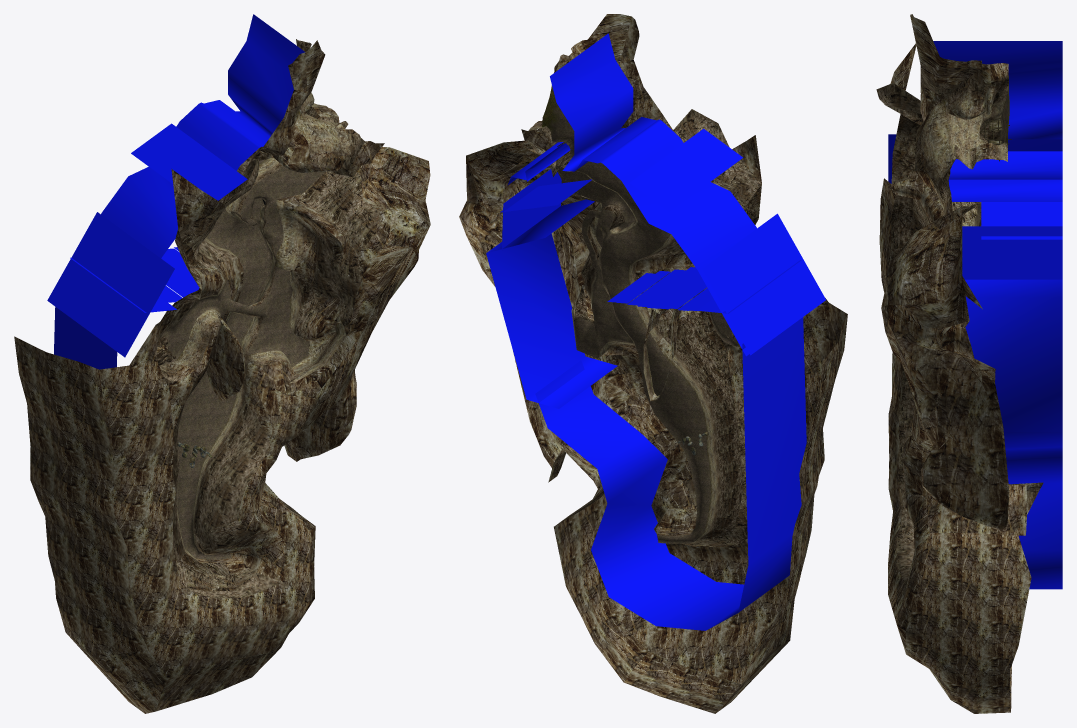
The picture shows the model from 3 angles, left to right: view 1: azimuth 30°, elevation 25°; view 2: azimuth 150°, elevation 25°; view 3: azimuth 270°, elevation 25°; orthographic projection. The views are drawn at different scales.
Parts seen in each view (by area): view 1: 3DSMesh_0, 3DSMesh_11, 3DSMesh_2, 3DSMesh_4, 3DSMesh_1, 3DSMesh_3; view 2: 3DSMesh_11, 3DSMesh_0, 3DSMesh_4, 3DSMesh_3, 3DSMesh_2, 3DSMesh_1; view 3: 3DSMesh_0, 3DSMesh_11, 3DSMesh_2, 3DSMesh_1, 3DSMesh_3, 3DSMesh_4.
Boxes of the visible parts, left/top/right/bottom form: 3DSMesh_0: left=14, top=39, right=430, bottom=713; 3DSMesh_11: left=47, top=14, right=305, bottom=369; 3DSMesh_2: left=155, top=63, right=380, bottom=598; 3DSMesh_4: left=161, top=159, right=325, bottom=559; 3DSMesh_1: left=173, top=92, right=350, bottom=561; 3DSMesh_3: left=156, top=107, right=319, bottom=576; 3DSMesh_11: left=486, top=33, right=825, bottom=630; 3DSMesh_0: left=459, top=14, right=847, bottom=713; 3DSMesh_4: left=551, top=113, right=739, bottom=543; 3DSMesh_3: left=547, top=127, right=761, bottom=541; 3DSMesh_2: left=538, top=32, right=761, bottom=547; 3DSMesh_1: left=528, top=124, right=721, bottom=541; 3DSMesh_0: left=879, top=14, right=1043, bottom=713; 3DSMesh_11: left=888, top=41, right=1062, bottom=589; 3DSMesh_2: left=876, top=69, right=1008, bottom=585; 3DSMesh_1: left=914, top=77, right=1007, bottom=226; 3DSMesh_3: left=890, top=77, right=1008, bottom=371; 3DSMesh_4: left=972, top=97, right=1008, bottom=226.
Size of the model in its own units: 21111 by 33491 by 7725.
